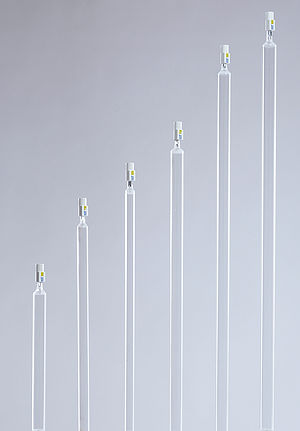Light_bulb: (260, 11, 280, 431), (215, 38, 234, 431), (165, 110, 187, 431), (118, 157, 139, 431), (71, 193, 92, 431), (30, 257, 50, 429)
